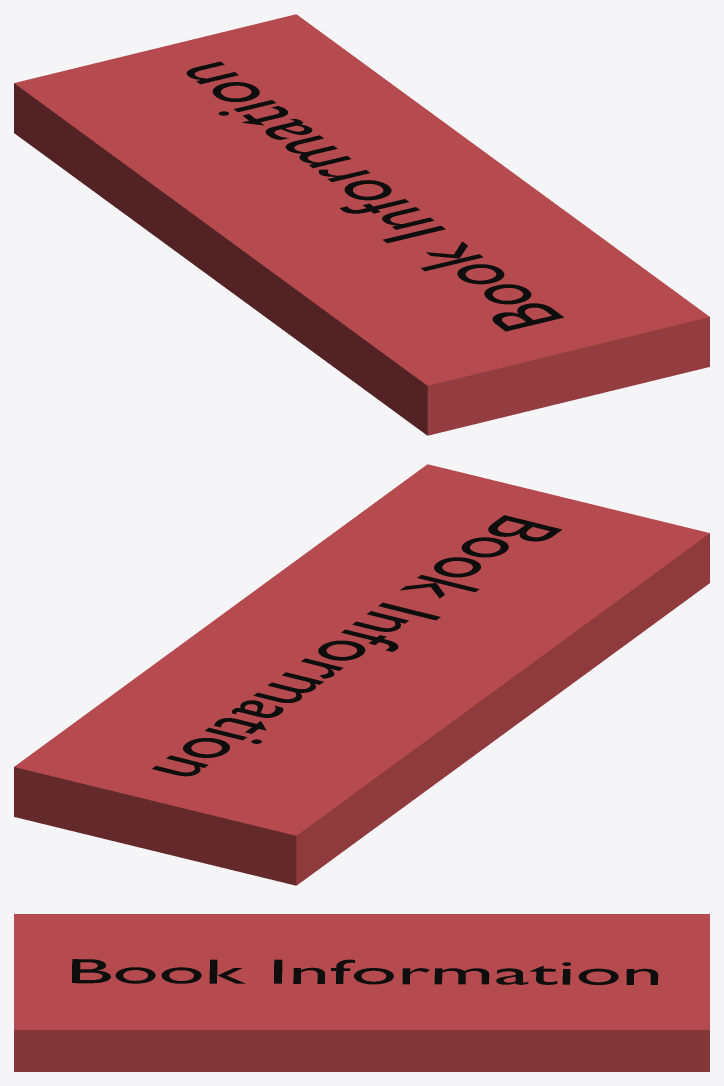
Rendered from book information.glb.
3 renders of one model, top to bottom at view 1: azimuth 30°, elevation 25°; view 2: azimuth 150°, elevation 25°; view 3: azimuth 270°, elevation 25°, orthographic. The views are drawn at different scales.
Parts seen in each view (by area): view 1: Cube, sdfsdf; view 2: Cube, sdfsdf; view 3: Cube, sdfsdf.
Boxes of the visible parts, x1,y1,x2,y2 form: Cube: (14, 14, 709, 435); sdfsdf: (186, 61, 563, 331); Cube: (14, 464, 709, 885); sdfsdf: (152, 515, 561, 776); Cube: (14, 914, 709, 1071); sdfsdf: (72, 959, 658, 984).
Bounding box in the file's own units: 3.29 × 0.5723 × 8.36.
